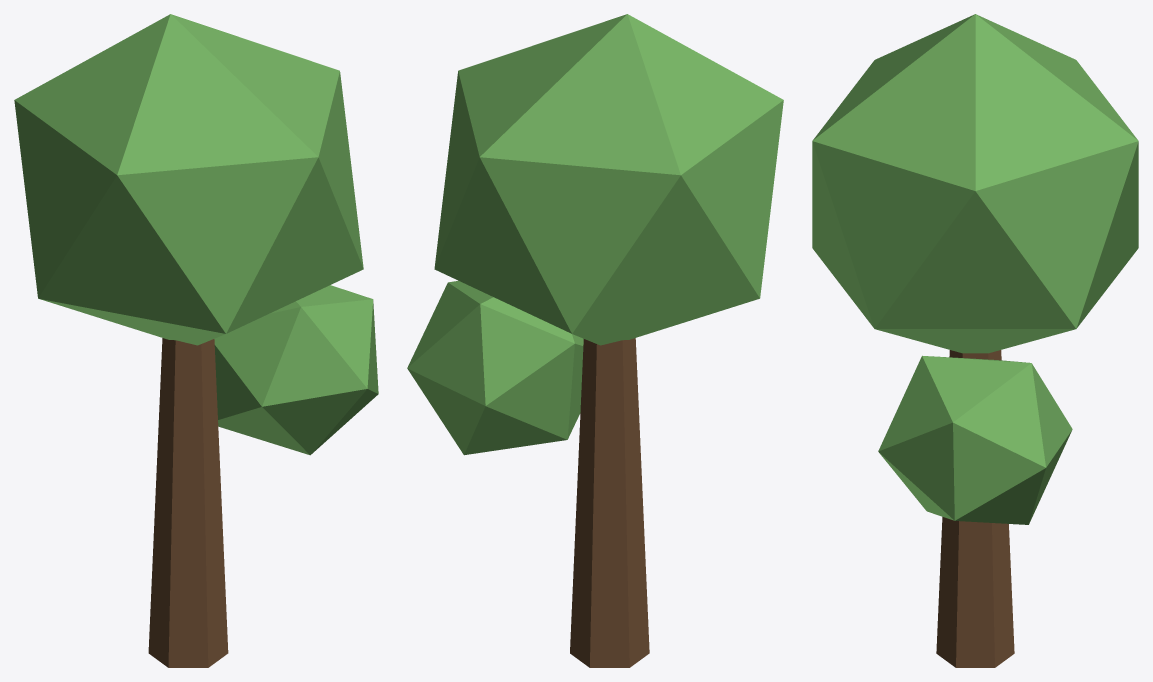
The model's file is Environment_Objects_Tree_05.fbx.
The picture shows the model from 3 angles, left to right: view 1: azimuth 30°, elevation 25°; view 2: azimuth 150°, elevation 25°; view 3: azimuth 270°, elevation 25°; orthographic projection.
Visible parts, largest first — view 1: Environment_Objects_Tree_05; view 2: Environment_Objects_Tree_05; view 3: Environment_Objects_Tree_05.
Boxes of the visible parts, x1,y1,x2,y2 form: Environment_Objects_Tree_05: [14, 14, 378, 667]; Environment_Objects_Tree_05: [407, 14, 783, 667]; Environment_Objects_Tree_05: [812, 14, 1138, 667].
Bounding box in the file's own units: 195 × 363 × 170.
